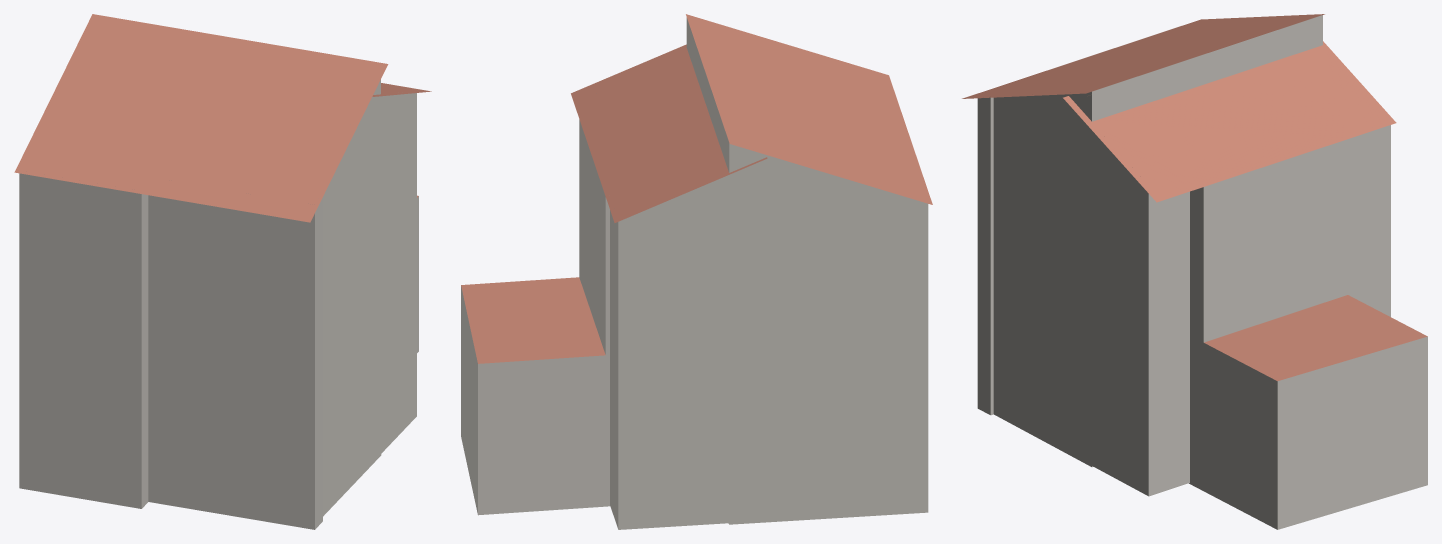
3 renders of one model, left to right at view 1: azimuth 30°, elevation 25°; view 2: azimuth 150°, elevation 25°; view 3: azimuth 270°, elevation 25°, orthographic. The views are drawn at different scales.
Visible parts, largest first — view 1: swisstopo:swissbuildings3d:a130f0b8-d582-4be2-9a56-0b7e53f34; view 2: swisstopo:swissbuildings3d:a130f0b8-d582-4be2-9a56-0b7e53f34; view 3: swisstopo:swissbuildings3d:a130f0b8-d582-4be2-9a56-0b7e53f34.
Boxes of the visible parts, x1=… form: swisstopo:swissbuildings3d:a130f0b8-d582-4be2-9a56-0b7e53f34: x1=14, y1=14, x2=431, y2=529; swisstopo:swissbuildings3d:a130f0b8-d582-4be2-9a56-0b7e53f34: x1=461, y1=14, x2=932, y2=529; swisstopo:swissbuildings3d:a130f0b8-d582-4be2-9a56-0b7e53f34: x1=962, y1=14, x2=1427, y2=529.
Bounding box in the file's own units: 27.72 × 23.4 × 26.35.
